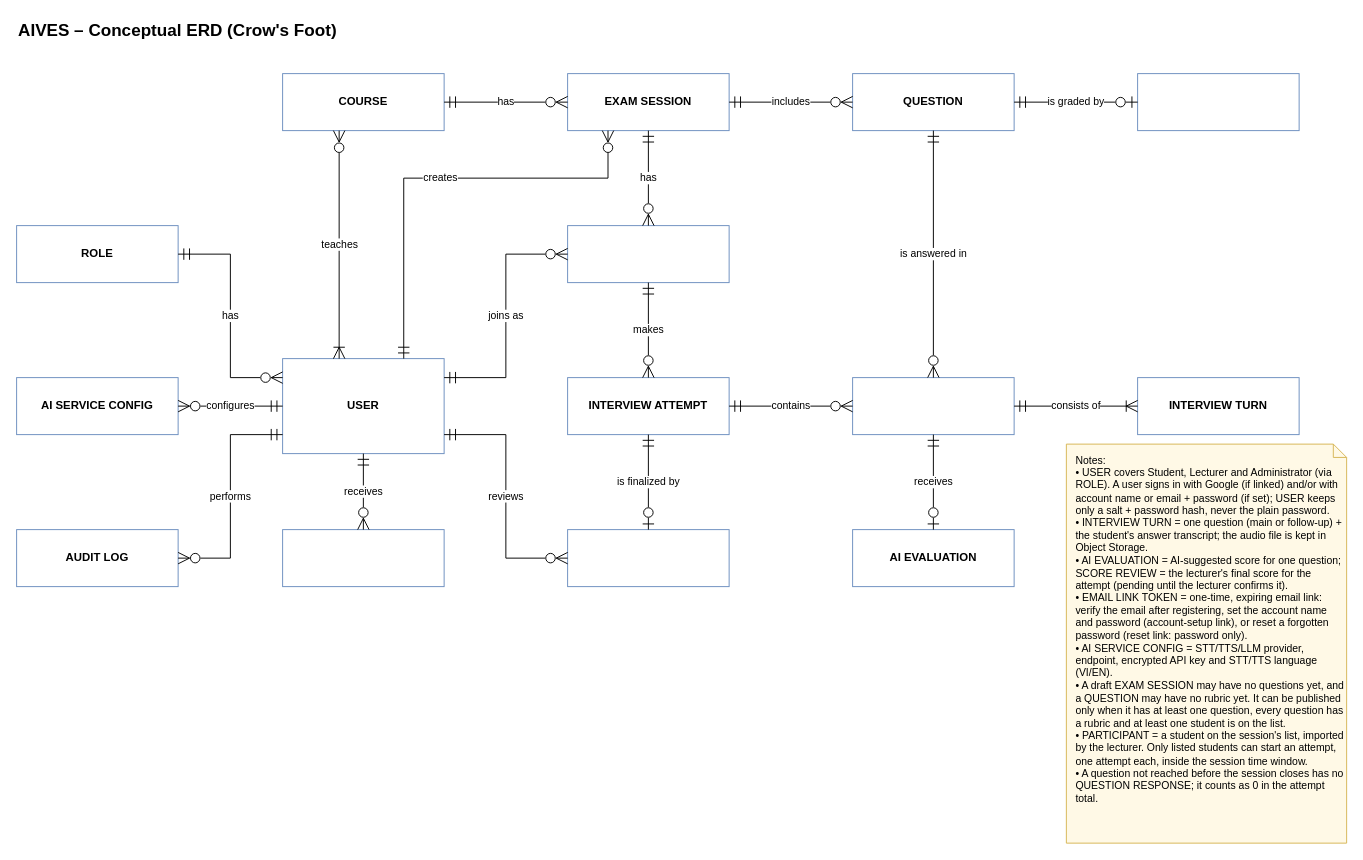
Image size: 1363x860. Some labels were removed from this diagram. The shapes that lost their labels are listed below. From the top down, each one's box as (x1, y1, x2, y2) in pixels, then its label:
(1137, 73, 1299, 131): RUBRIC
(567, 225, 729, 283): PARTICIPANT
(852, 377, 1014, 435): QUESTION RESPONSE
(282, 529, 444, 587): EMAIL LINK TOKEN
(567, 529, 729, 587): SCORE REVIEW
